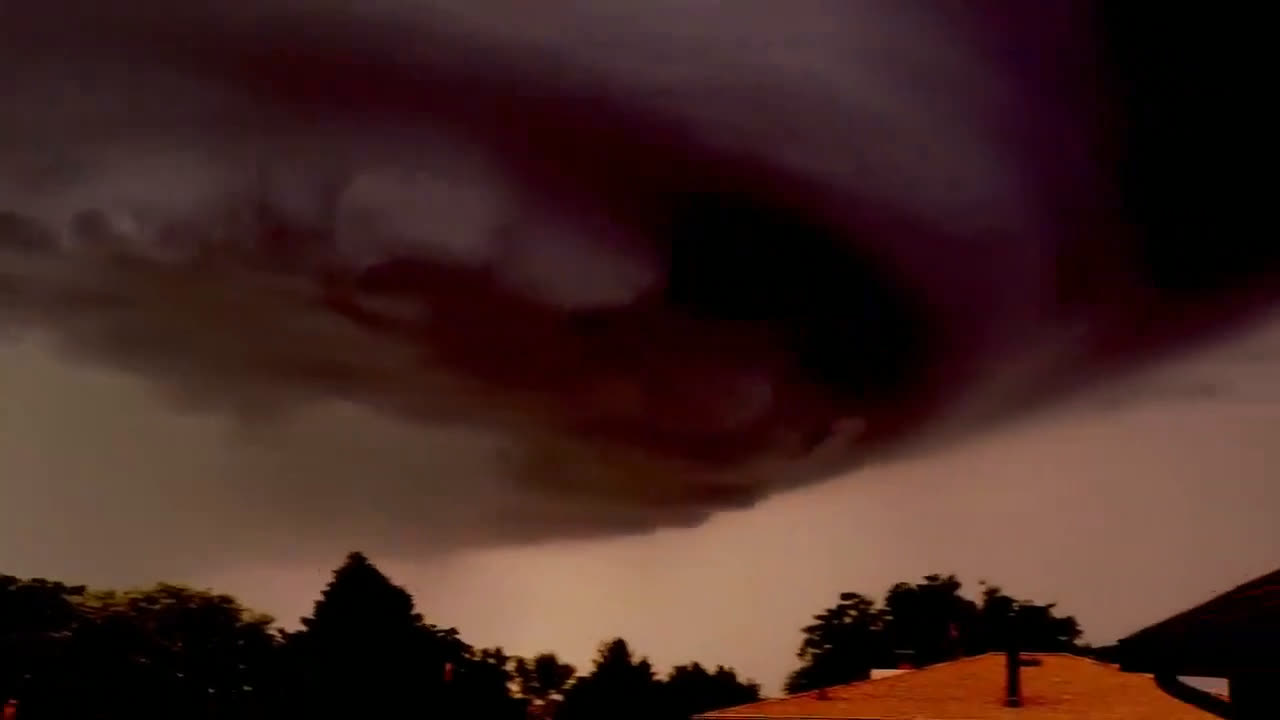RFD: (3, 332, 513, 640)
mesocyclone: (2, 4, 1280, 551)
striations: (390, 2, 1075, 461)
wall cloud: (2, 144, 869, 550)
